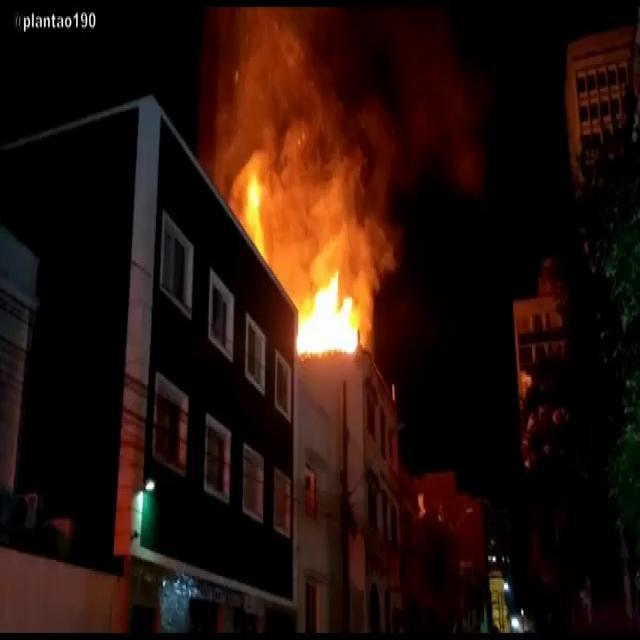Fire: (302, 281, 356, 349)
Smoke: (262, 72, 363, 206)
